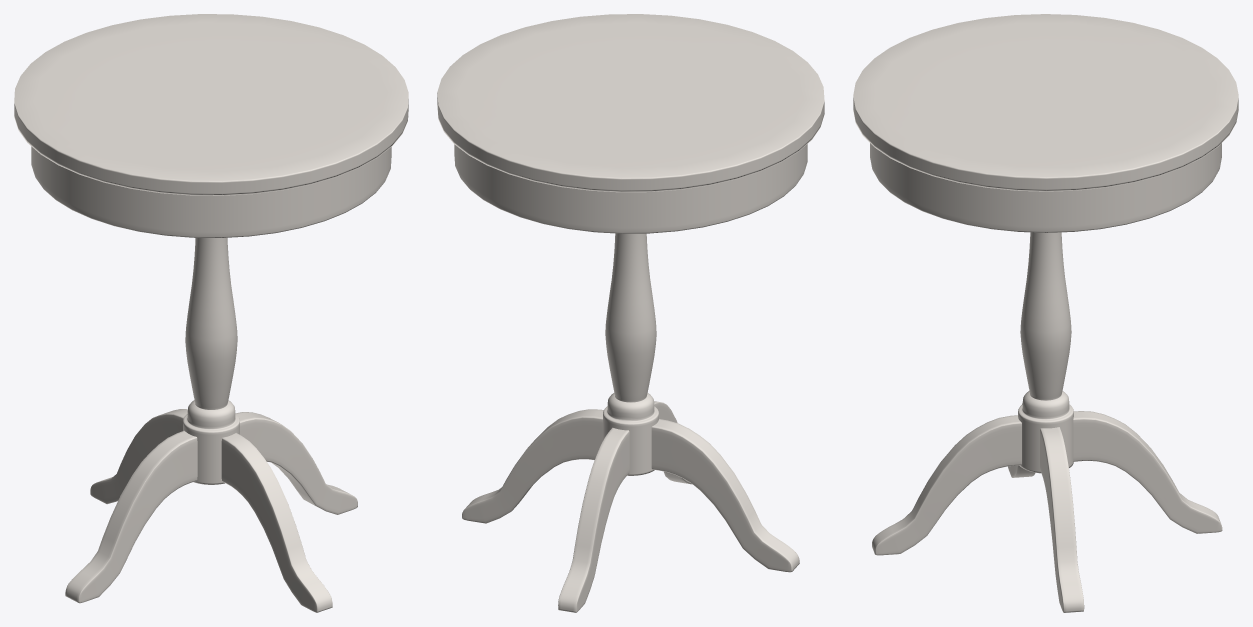
Rendered from table_B07DW4VYQW.glb.
3 renders of one model, left to right at view 1: azimuth 30°, elevation 25°; view 2: azimuth 150°, elevation 25°; view 3: azimuth 270°, elevation 25°, orthographic. The views are drawn at different scales.
Parts seen in each view (by area): view 1: RootNode; view 2: RootNode; view 3: RootNode.
Part boxes in pixels (box(x1,y1,x2,y2)): RootNode: box(14, 14, 408, 612); RootNode: box(437, 14, 824, 612); RootNode: box(853, 14, 1238, 612).
Size of the model in its own units: 0.5126 by 0.6531 by 0.5126.
Materials: 1 (1 with a texture image).
